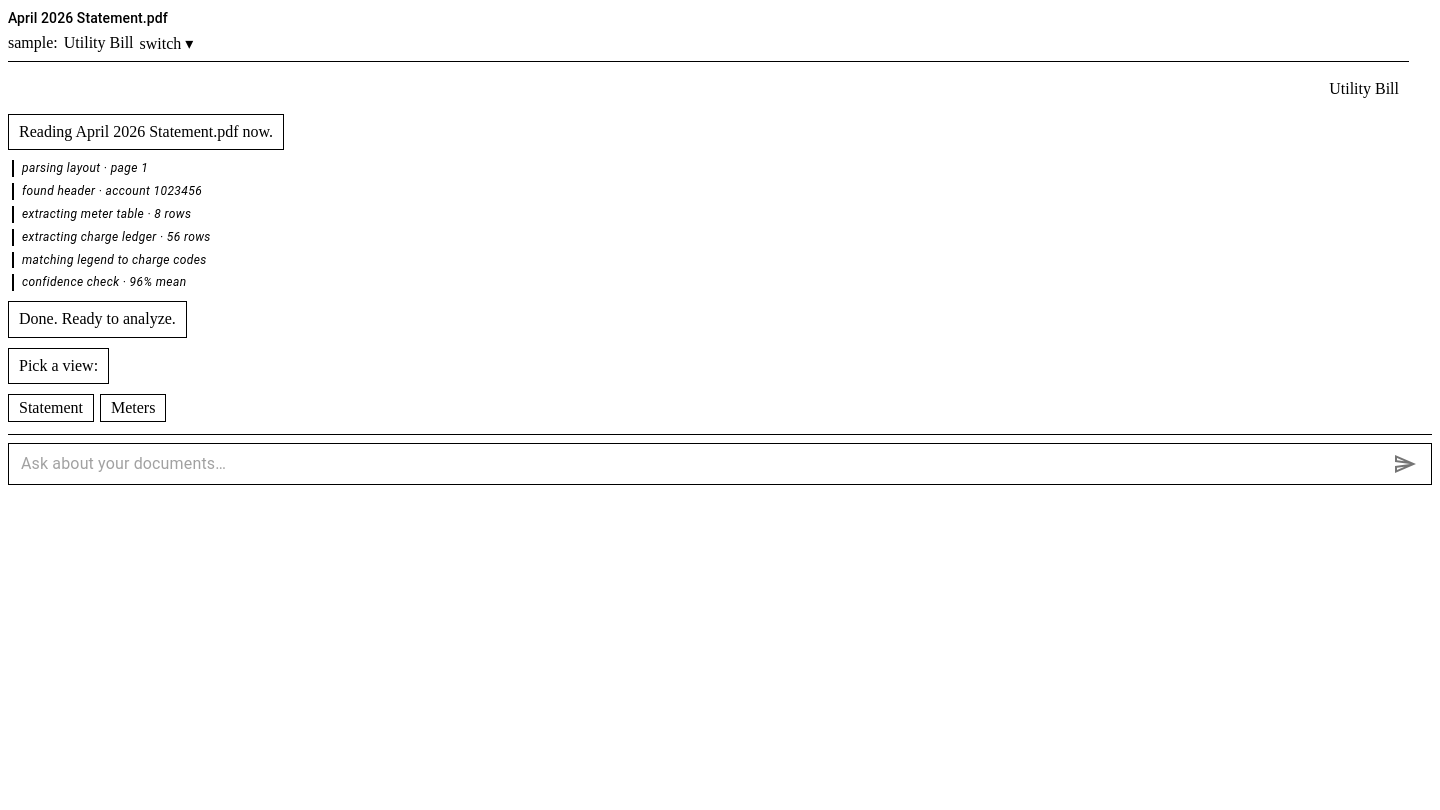
Test case: ChatColumn › chat input (CF-18) › on a network failure, renders the 'couldn't reach' copy
Type "anything" into the field with placeholder "Ask about your documents…". click: (702, 464)
box: top-left (21, 448), bottom-right (1383, 480)
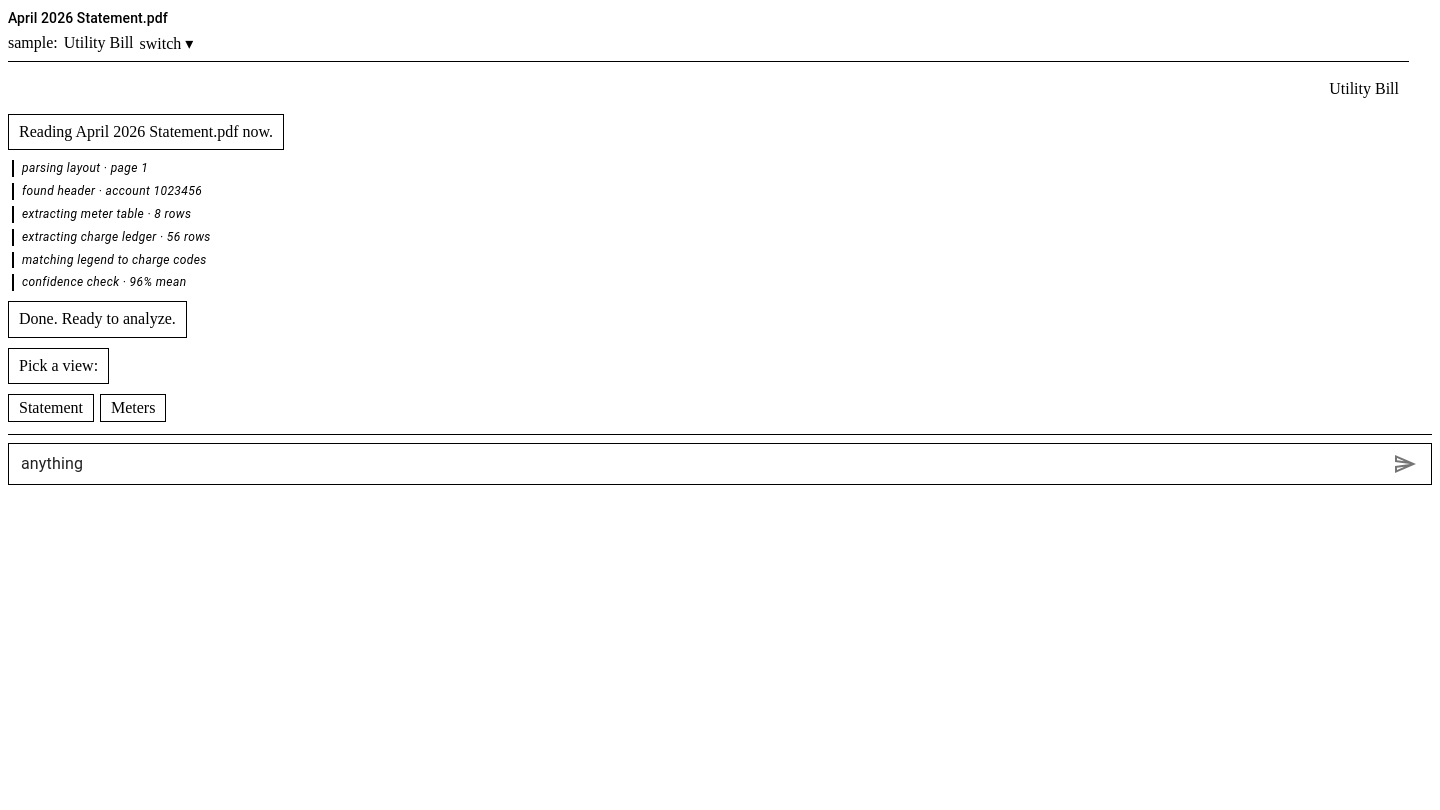
Click the button with test id "chat-live-send". click: (1405, 464)
box: top-left (1391, 450), bottom-right (1419, 478)
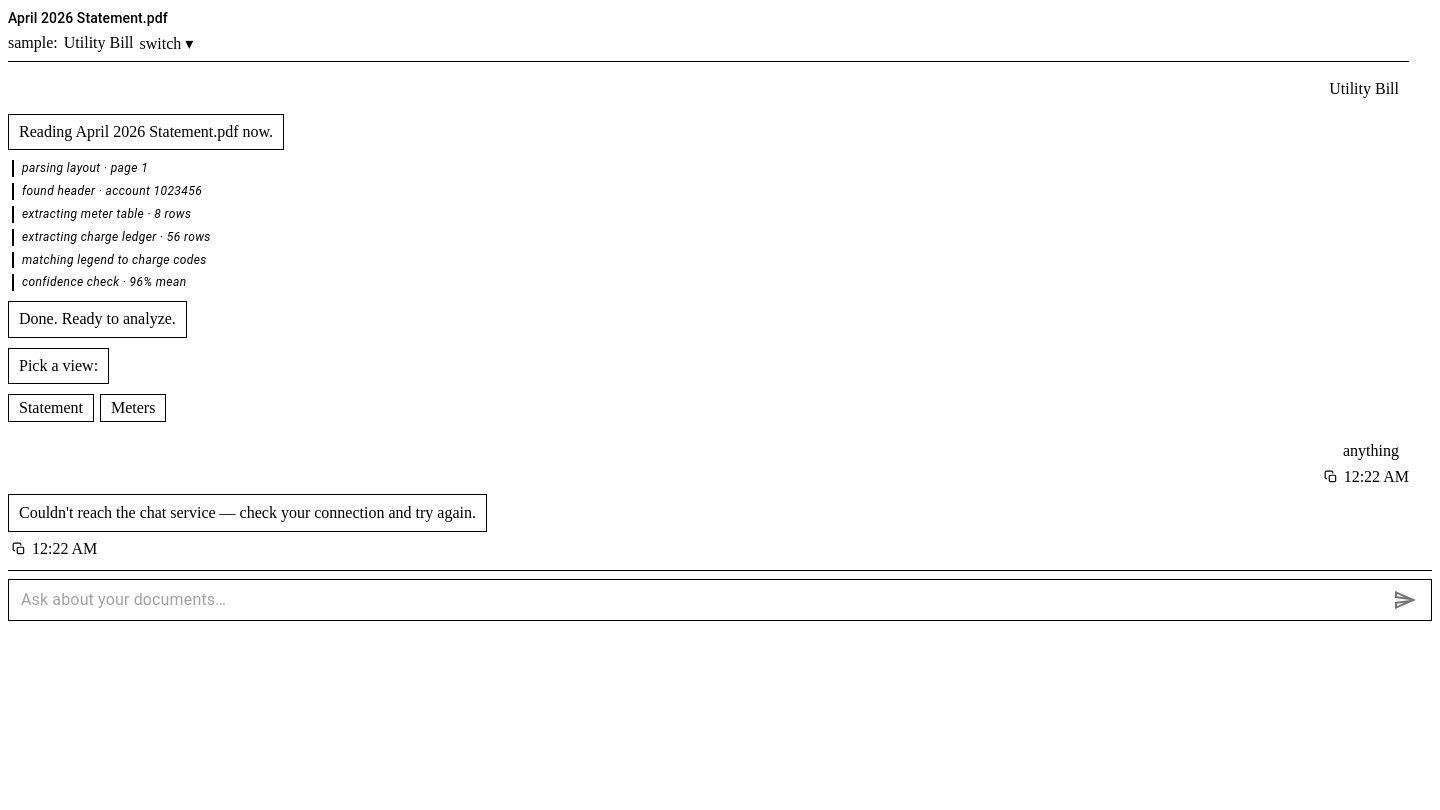
expect the element with test id "chat-live-assistant" shows "Couldn't reach the chat service": met, box top-left (19, 504), bottom-right (476, 521)
